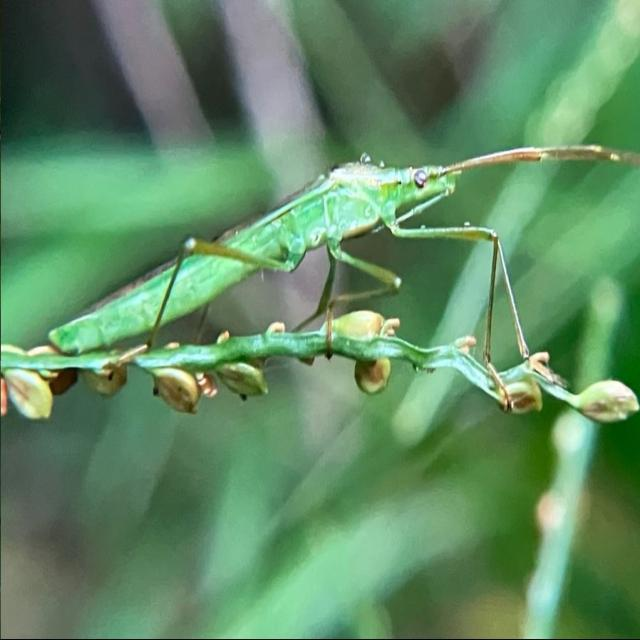walang sangit pada tanaman padi: (3, 140, 636, 427)
